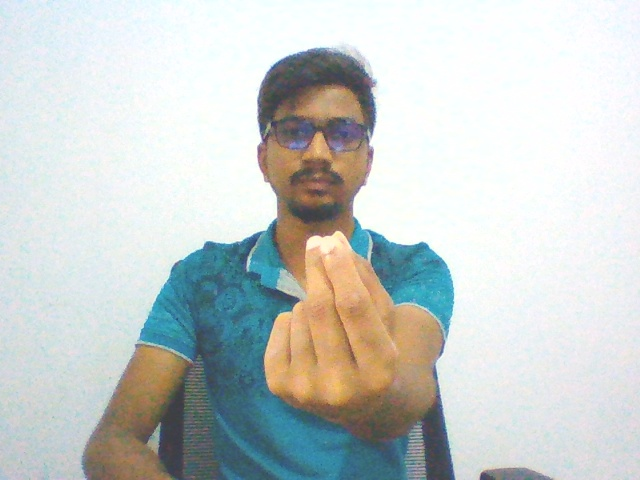dog: (257, 223, 410, 442)
